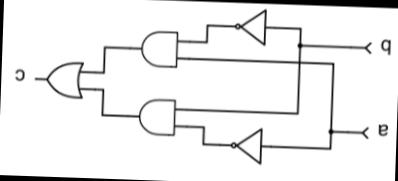and: (135, 19, 182, 72), (132, 93, 180, 139)
not: (227, 127, 268, 167), (231, 5, 270, 46)
or: (41, 56, 87, 100)
